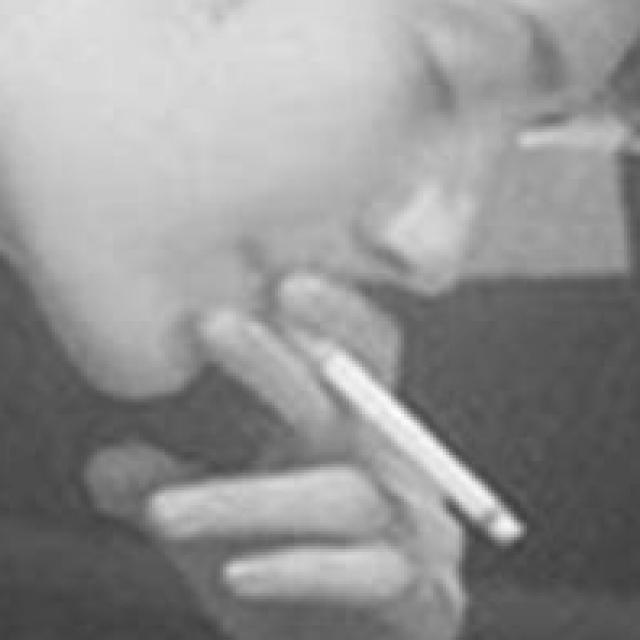smoking: (263, 306, 524, 551)
